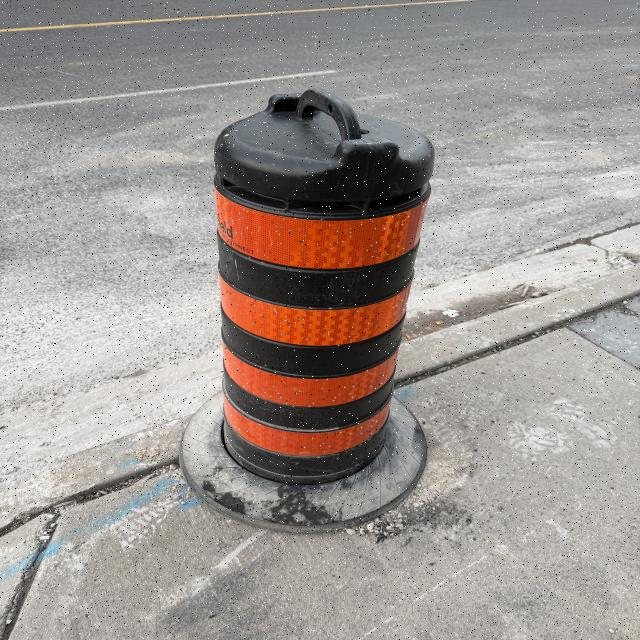Teraffic Barrel: (181, 90, 433, 530)
